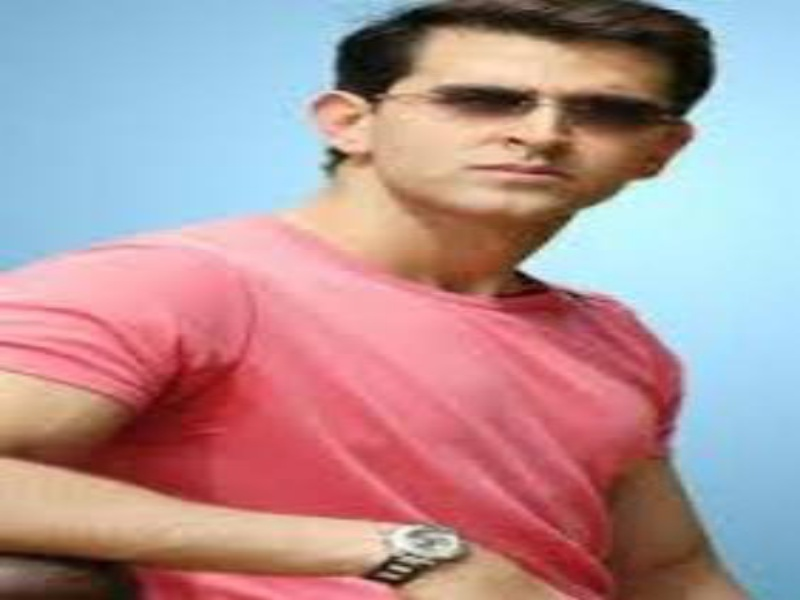TsisyArotava: (304, 4, 734, 263)
